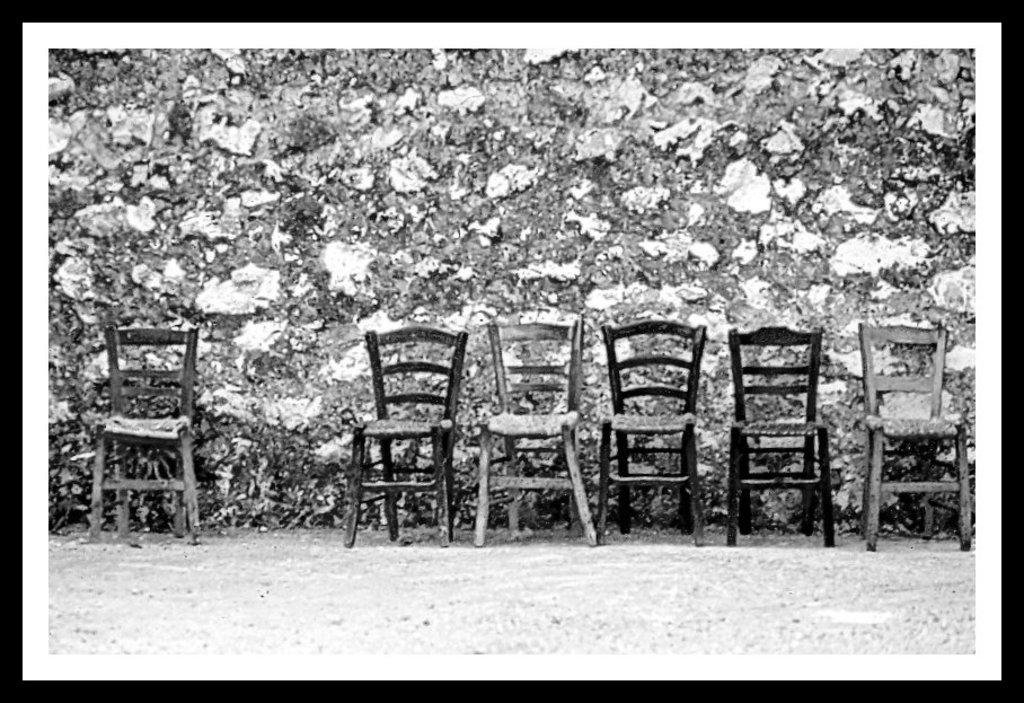Chair: (337, 322, 483, 553), (722, 322, 848, 561), (477, 310, 600, 548), (856, 323, 979, 552), (589, 322, 710, 553), (87, 334, 214, 545)
